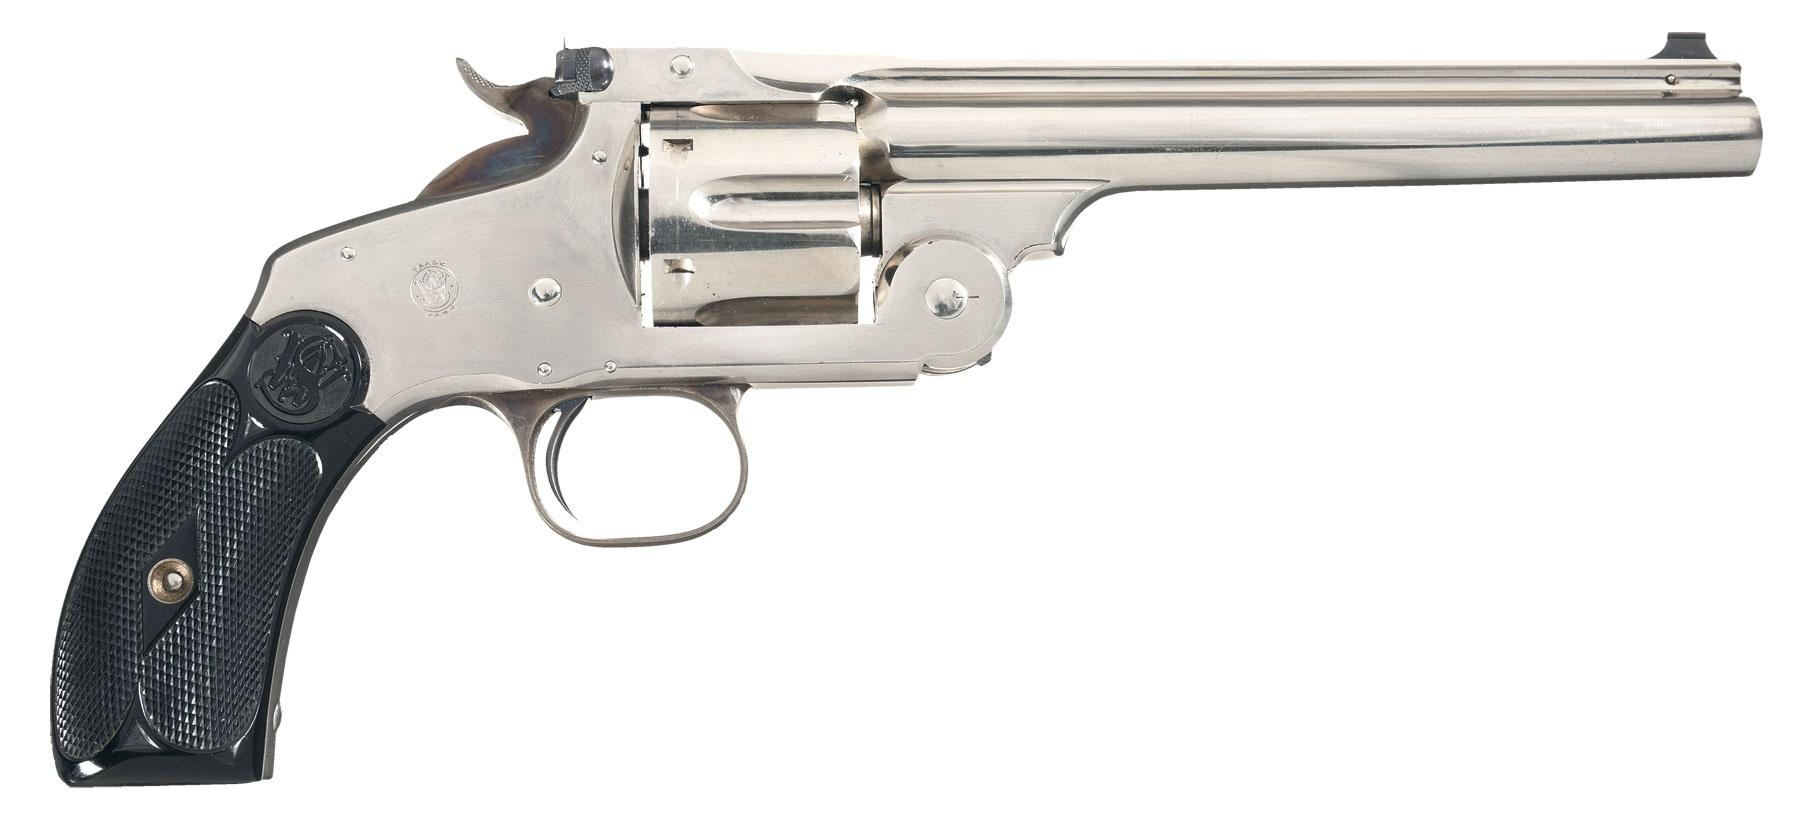gun: (14, 11, 1798, 822)
